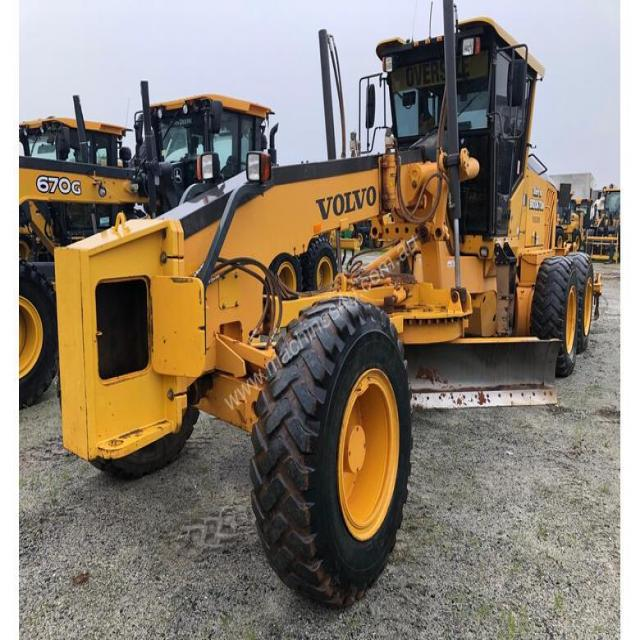Grader: (37, 6, 633, 606)
